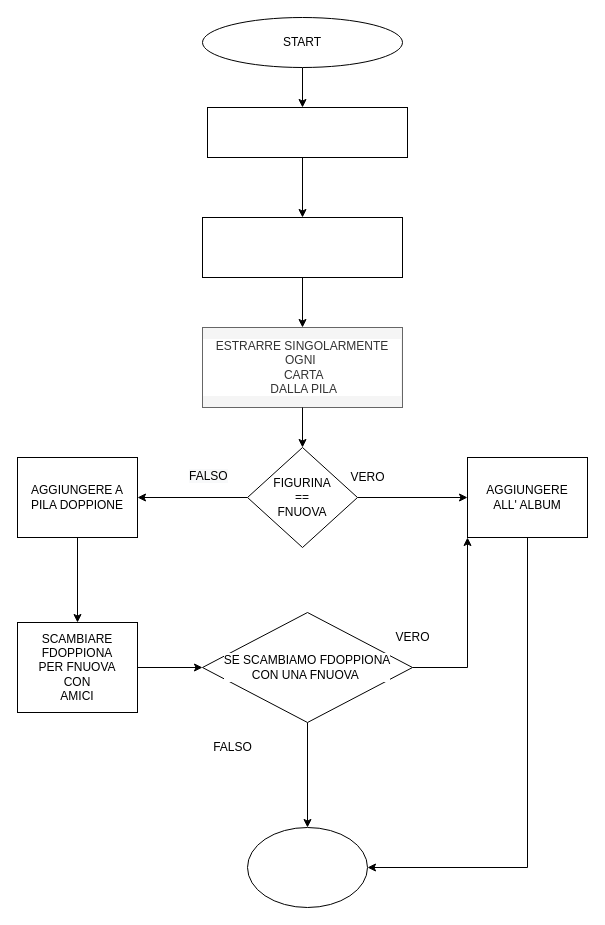
The diagram is 605 pixels wide and 925 high, and some of its shapes have lost their labels. The shapes that lost their labels are listed below. From the top down, each one's centre as x and y in pixels, then its label:
At [307,132]: "APERTURA PACCHETTO".
At [302,247]: "CREAZIONE PILA CARTE DA CONTROLLARE".
At [307,867]: "FINE".
